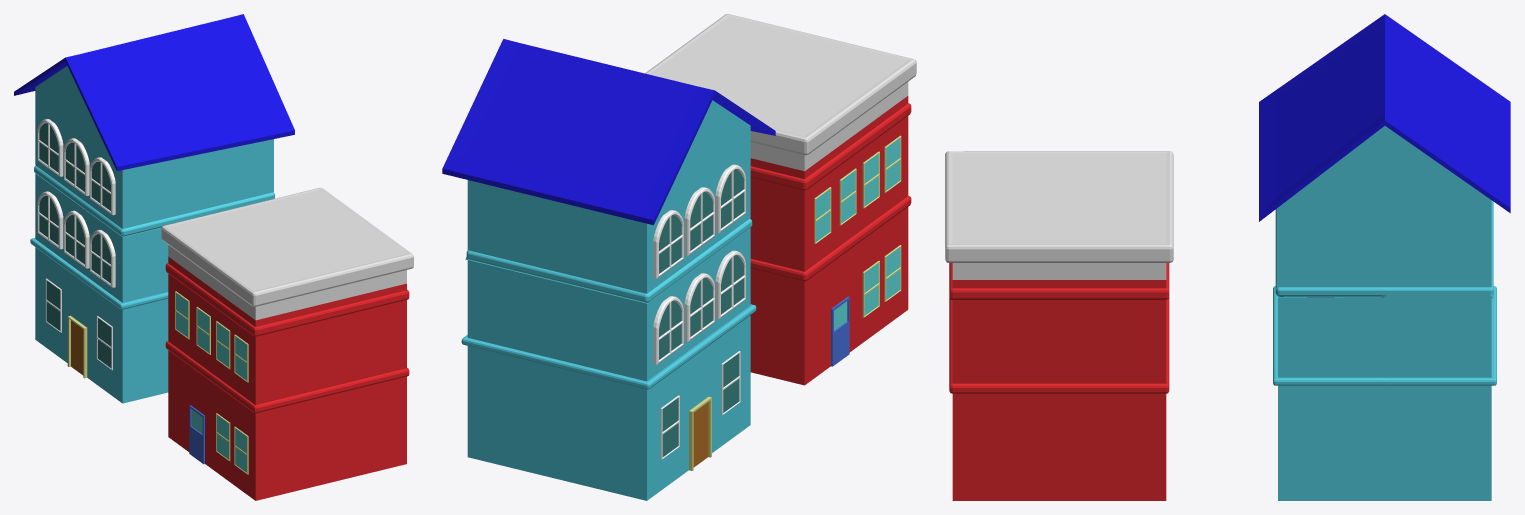
The model's file is Houses.fbx.
3 views of the same model, side by side, from view 1: azimuth 30°, elevation 25°; view 2: azimuth 150°, elevation 25°; view 3: azimuth 270°, elevation 25° (orthographic). The views are drawn at different scales.
Parts seen in each view (by area): view 1: Cube.002, Cube.001; view 2: Cube.001, Cube.002; view 3: Cube.001, Cube.002.
Boxes of the visible parts, left/top/right/bottom form: Cube.002: left=161, top=187, right=413, bottom=500; Cube.001: left=14, top=14, right=294, bottom=403; Cube.001: left=442, top=39, right=775, bottom=500; Cube.002: left=645, top=14, right=916, bottom=385; Cube.001: left=1259, top=14, right=1510, bottom=500; Cube.002: left=945, top=151, right=1173, bottom=500.
Size of the model in its own units: 596 by 1016 by 1340.
